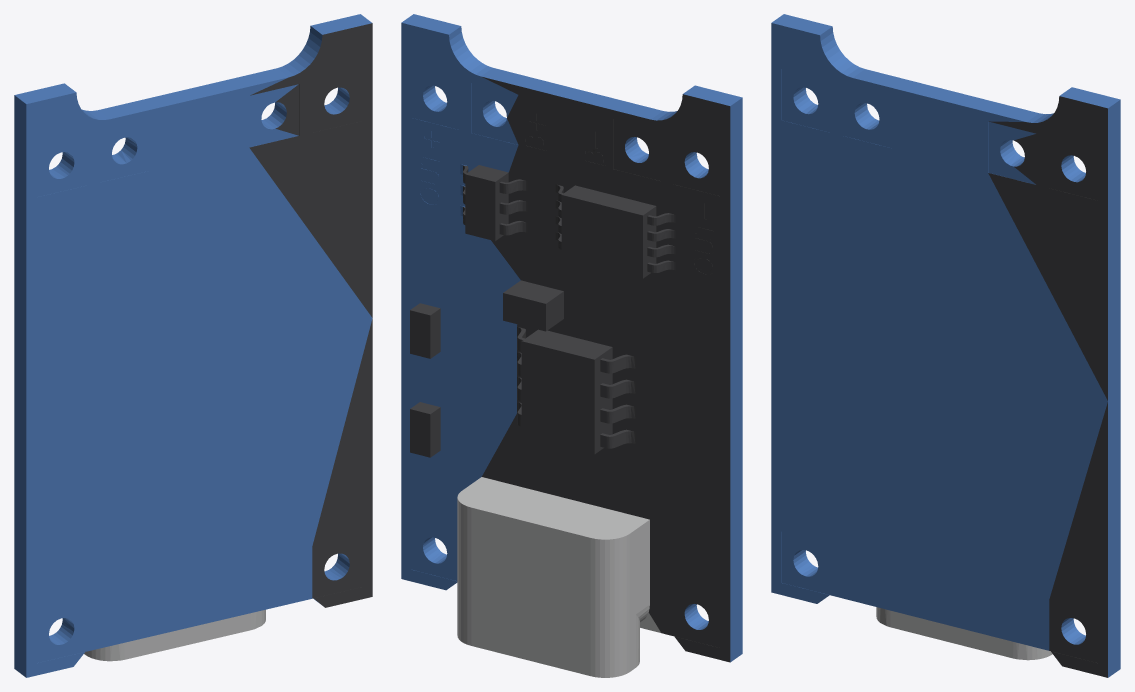
3 renders of one model, left to right at view 1: azimuth 30°, elevation 25°; view 2: azimuth 150°, elevation 25°; view 3: azimuth 330°, elevation 25°, orthographic. The views are drawn at different scales.
Parts seen in each view (by area): view 1: c0, c1, c2; view 2: c1, c0, c2; view 3: c0, c1, c2.
Part boxes in pixels (x1,y1,x2,y2): c0: [14, 14, 372, 677]; c1: [249, 23, 372, 607]; c2: [84, 609, 265, 661]; c1: [410, 77, 730, 662]; c0: [401, 14, 742, 662]; c2: [457, 477, 660, 677]; c0: [771, 14, 1120, 677]; c1: [988, 96, 1107, 677]; c2: [876, 607, 1052, 660].
Size of the model in its own units: 17.62 by 28.95 by 4.41.
